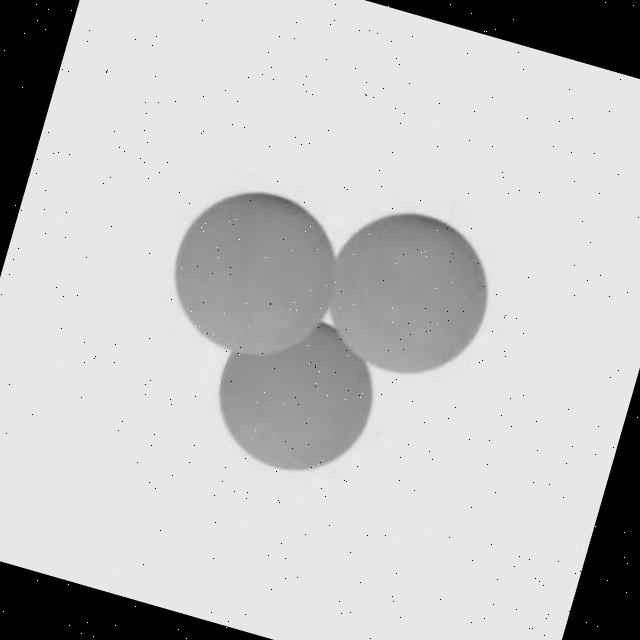ping-pong-ball: (306, 192, 508, 400), (149, 172, 350, 379), (192, 294, 392, 497)
